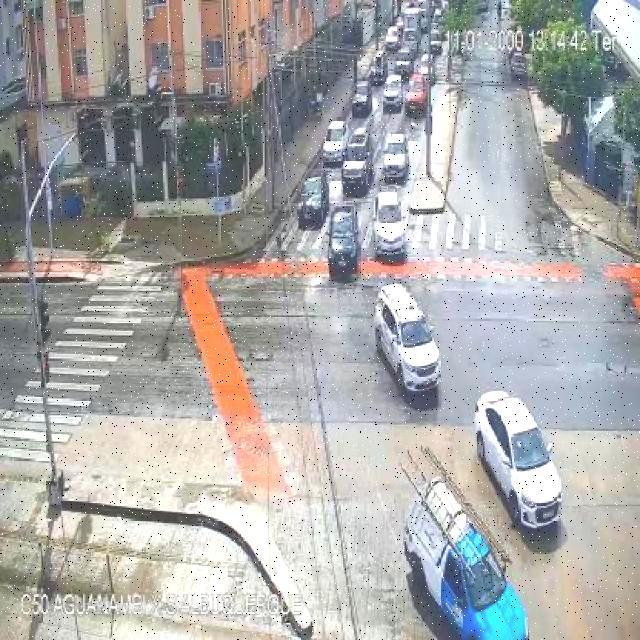Car: (469, 388, 569, 542), (372, 280, 447, 406), (325, 205, 360, 281), (371, 190, 405, 264), (342, 125, 373, 197), (295, 174, 327, 234), (320, 116, 348, 171), (382, 132, 408, 185), (402, 76, 428, 116), (382, 74, 405, 114), (353, 78, 375, 116)
Truck: (397, 445, 527, 640)
